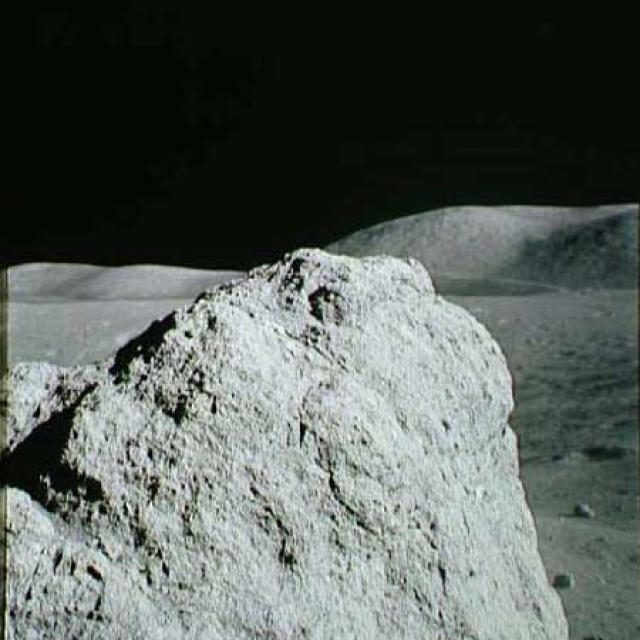crater: (552, 437, 632, 472)
rock: (0, 237, 574, 639), (554, 558, 580, 594)
